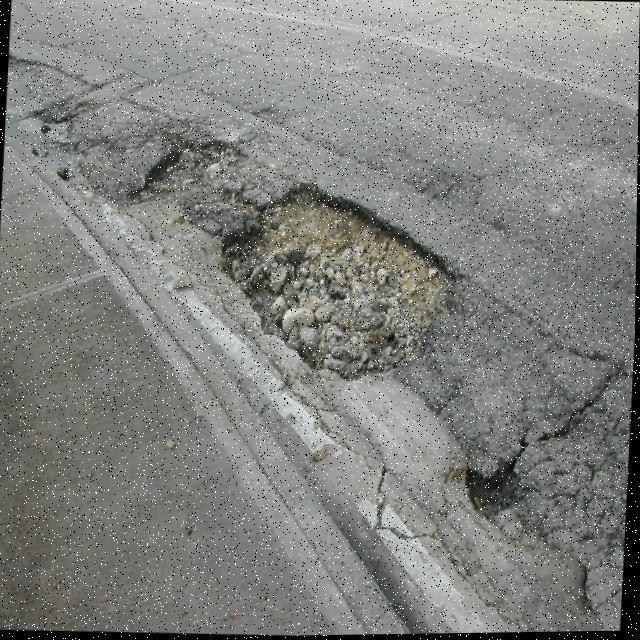Pothole: (136, 134, 458, 385), (464, 464, 553, 547)
